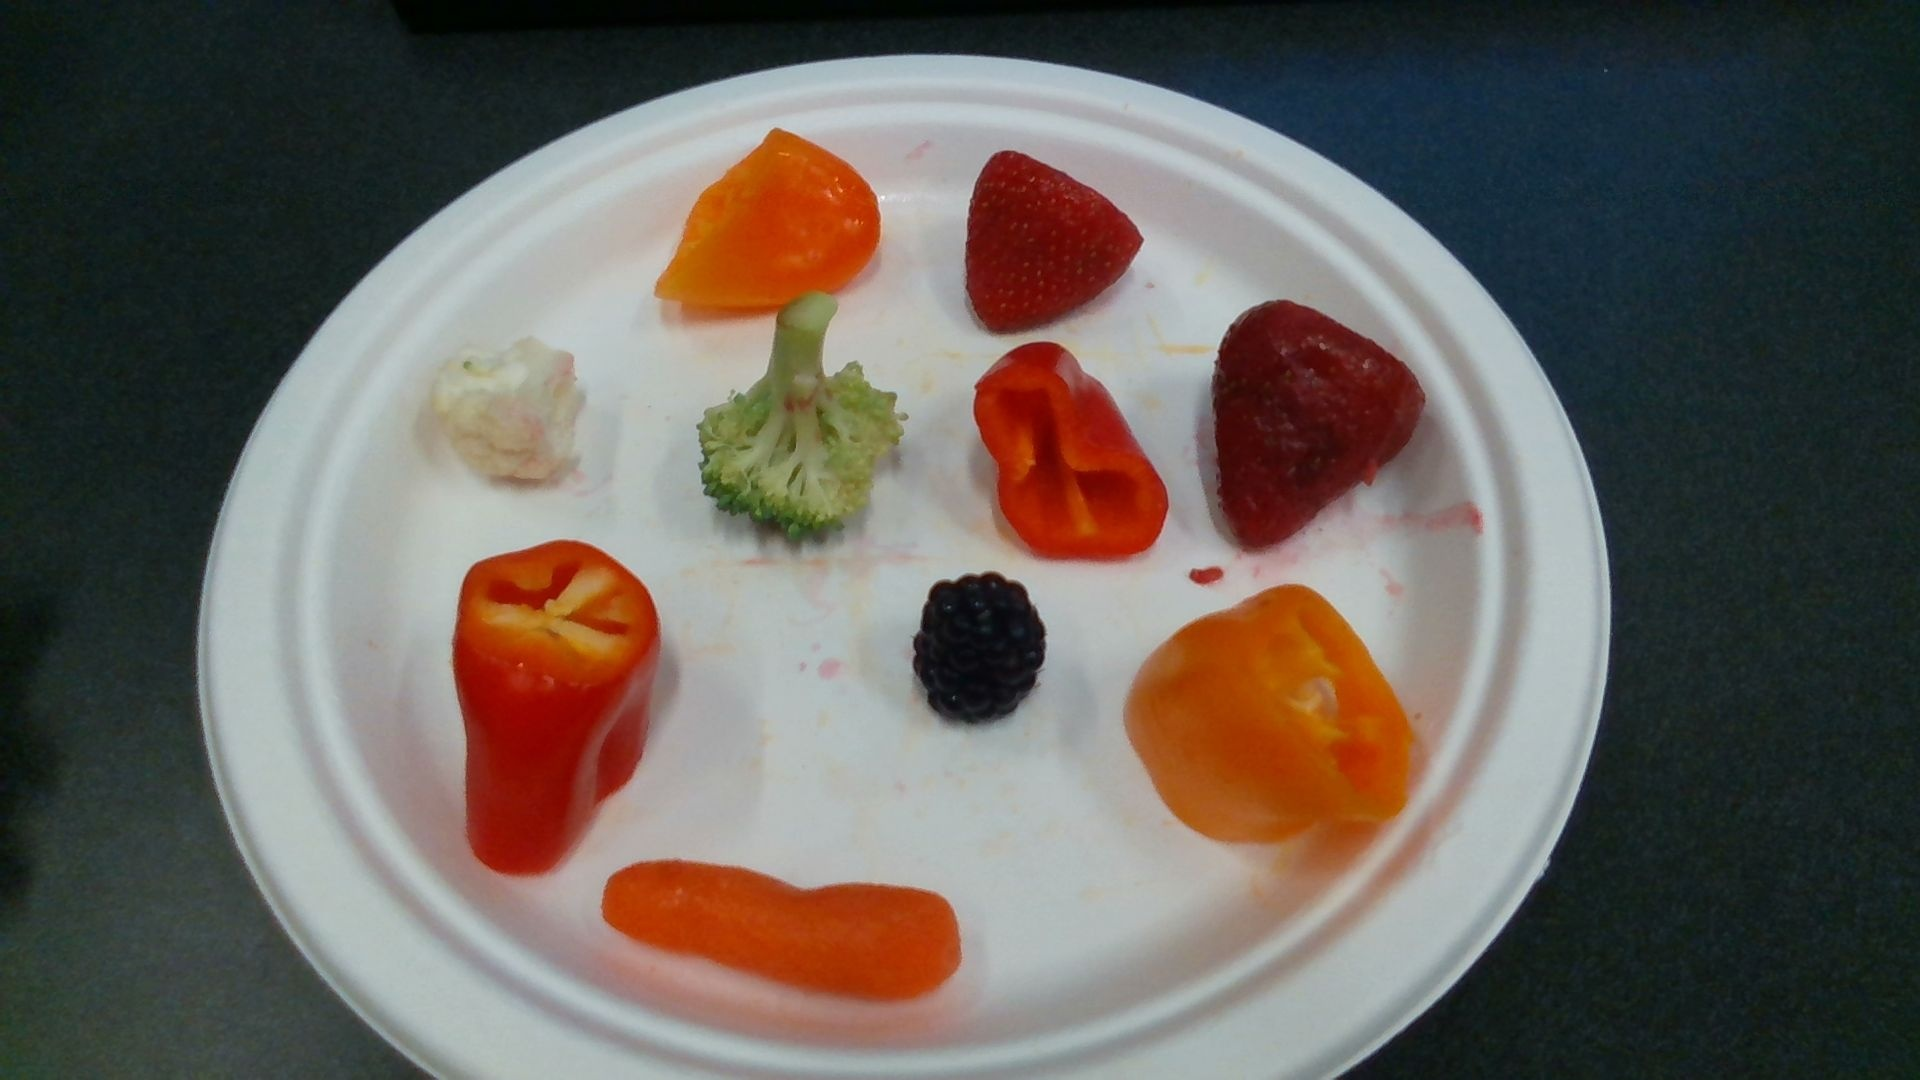bell_pepper: (1125, 585, 1408, 843), (454, 541, 659, 876), (978, 345, 1168, 558), (657, 131, 882, 301)
blackberry: (913, 578, 1044, 727)
broccoli: (699, 298, 902, 531)
carrot: (605, 861, 960, 998)
cauliflower: (434, 338, 587, 483)
strawberry: (1215, 303, 1419, 543), (969, 152, 1139, 334)
